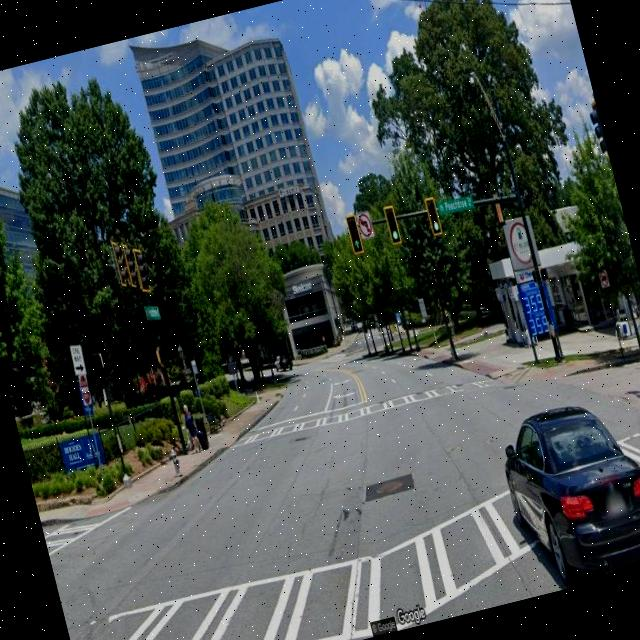seating: (204, 408, 224, 434)
trash_can: (193, 414, 210, 444)
